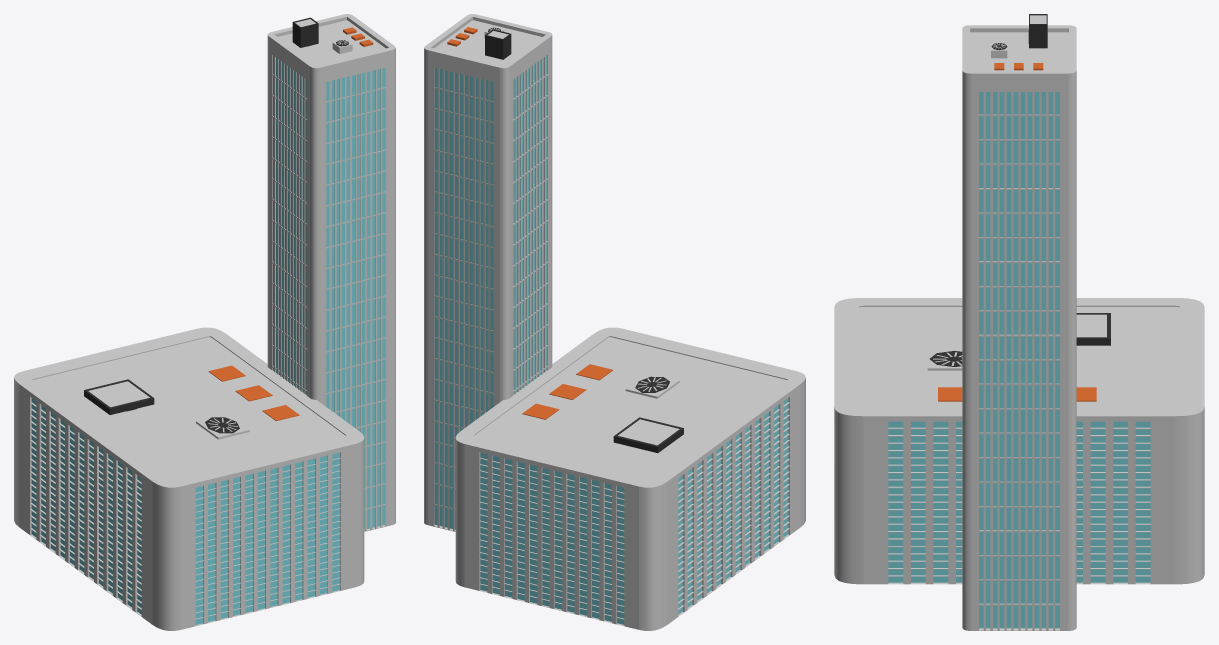
File: Headquarters01.fbx
3 renders of one model, left to right at view 1: azimuth 30°, elevation 25°; view 2: azimuth 150°, elevation 25°; view 3: azimuth 270°, elevation 25°, orthographic. The views are drawn at different scales.
Parts seen in each view (by area): view 1: Box20207, Skyscraper2:Box20207, Skyscraper2:Object002, group2, Box20208, Skyscraper2:Box20208; view 2: Box20207, Skyscraper2:Box20207, Skyscraper2:Object002, group2, Box20208, Skyscraper2:Box20208; view 3: Box20207, Skyscraper2:Box20207, Skyscraper2:Object002, group2, Box20208, Skyscraper2:Box20208.
Boxes of the visible parts, x1,y1,x2,y2 form: Box20207: (14,327,364,630); Skyscraper2:Box20207: (267,14,395,531); Skyscraper2:Object002: (273,55,385,529); group2: (31,398,339,624); Box20208: (84,379,154,414); Skyscraper2:Box20208: (292,17,318,47); Box20207: (455,327,805,630); Skyscraper2:Box20207: (424,14,552,531); Skyscraper2:Object002: (434,55,546,529); group2: (480,398,788,624); Box20208: (613,417,683,453); Skyscraper2:Box20208: (485,29,511,59); Box20207: (834,298,1204,584); Skyscraper2:Box20207: (962,25,1076,630); Skyscraper2:Object002: (979,92,1059,628); group2: (888,421,1150,582); Box20208: (1076,313,1110,345); Skyscraper2:Box20208: (1029,14,1047,48).
Size of the model in its own units: 12.56 by 20.5 by 11.91.
